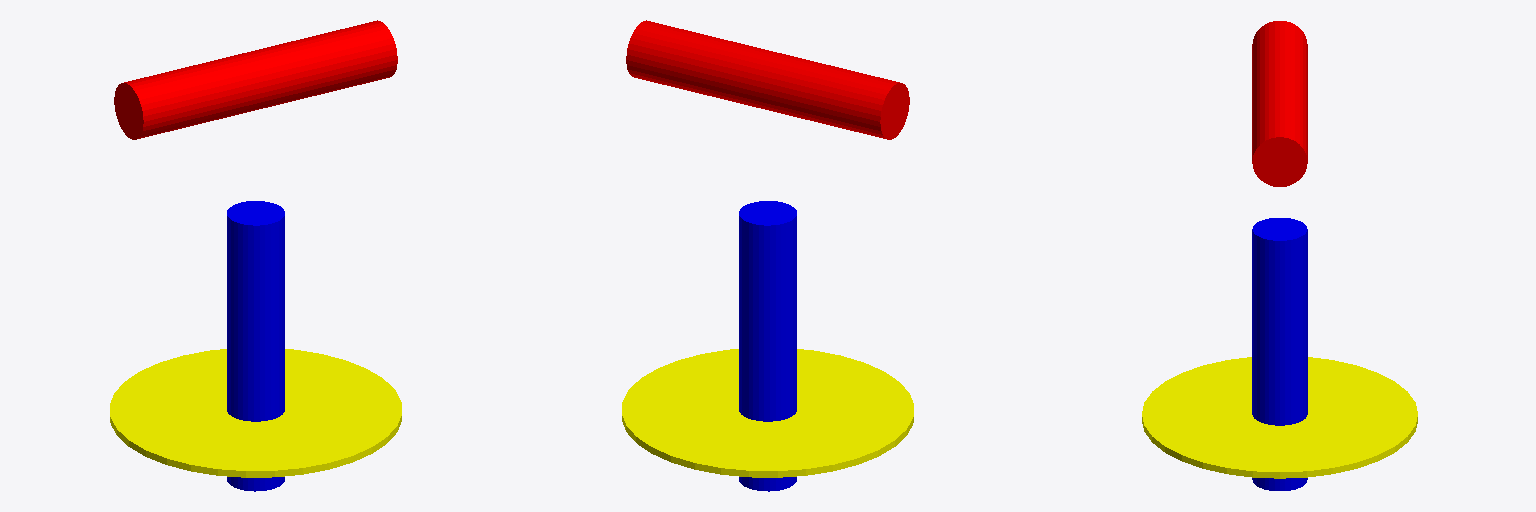
The robot description file, URDF, robot "pan_tilt":
<?xml version="1.0" ?>
<!-- =================================================================================== -->
<!-- |    This document was autogenerated by xacro from windows.xacro                  | -->
<!-- |    EDITING THIS FILE BY HAND IS NOT RECOMMENDED                                 | -->
<!-- =================================================================================== -->
<robot name="pan_tilt" xmlns:controller="http://playerstage.sourceforge.net/gazebo/xmlschema/#controller" xmlns:interface="http://playerstage.sourceforge.net/gazebo/xmlschema/#interface" xmlns:sensor="http://playerstage.sourceforge.net/gazebo/xmlschema/#sensor" xmlns:xacro="http://www.ros.org/wiki/xacro">
  <link name="base_link">
    <visual>
      <geometry>
        <cylinder length="0.01" radius="0.2"/>
      </geometry>
      <origin rpy="0 0 0" xyz="0 0 0"/>
      <material name="yellow">
        <color rgba="1 1 0 1"/>
      </material>
    </visual>
    <collision>
      <geometry>
        <cylinder length="0.03" radius="0.2"/>
      </geometry>
      <origin rpy="0 0 0" xyz="0 0 0"/>
    </collision>
    <inertial>
      <mass value="1"/>
      <inertia ixx="0.5" ixy="0.0" ixz="0.0" iyy="0.5" iyz="0.0" izz="0.5"/>
    </inertial>
  </link>
  <joint name="pan_joint" type="revolute">
    <parent link="base_link"/>
    <child link="pan_link"/>
    <origin xyz="0 0 0.1"/>
    <axis xyz="0 0 1"/>
    <limit effort="300" lower="-3.14" upper="3.14" velocity="0.1"/>
    <dynamics damping="50" friction="1"/>
  </joint>
  <link name="pan_link">
    <visual>
      <geometry>
        <cylinder length="0.4" radius="0.04"/>
      </geometry>
      <origin rpy="0 0 0" xyz="0 0 0.0"/>
      <material name="red">
        <color rgba="0 0 1 1"/>
      </material>
    </visual>
    <collision>
      <geometry>
        <cylinder length="0.4" radius="0.06"/>
      </geometry>
      <origin rpy="0 0 0" xyz="0 0 0.0"/>
    </collision>
    <inertial>
      <mass value="1"/>
      <inertia ixx="0.5" ixy="0.0" ixz="0.0" iyy="0.5" iyz="0.0" izz="0.5"/>
    </inertial>
  </link>
  <joint name="tilt_joint" type="revolute">
    <parent link="pan_link"/>
    <child link="tilt_link"/>
    <origin xyz="0 0 0.4"/>
    <axis xyz="0 1 0"/>
    <limit effort="300" lower="0" upper="0" velocity="0.1"/>
    <dynamics damping="50" friction="1"/>
  </joint>
  <link name="tilt_link">
    <visual>
      <geometry>
        <cylinder length="0.4" radius="0.04"/>
      </geometry>
      <origin rpy="0 1.57 0" xyz="0 0 0"/>
      <material name="green">
        <color rgba="1 0 0 1"/>
      </material>
    </visual>
    <collision>
      <geometry>
        <cylinder length="0.4" radius="0.24"/>
      </geometry>
      <origin rpy="0 1.57 0" xyz="0 0 0"/>
    </collision>
    <inertial>
      <mass value="1"/>
      <inertia ixx="0.5" ixy="0.0" ixz="0.0" iyy="0.5" iyz="0.0" izz="0.5"/>
    </inertial>
  </link>
</robot>

--- Render facts (derived) ---
Views: 3 orthographic renders of the robot side by side, from view 1: azimuth 30°, elevation 25°; view 2: azimuth 150°, elevation 25°; view 3: azimuth 270°, elevation 25°.
Model pan_tilt with 3 links and 2 joints (2 revolute), rooted at base_link, posed all joints at 0.
Links seen in each view (by area): view 1: base_link, tilt_link, pan_link; view 2: base_link, tilt_link, pan_link; view 3: base_link, pan_link, tilt_link.
Link boxes in pixels (x1,y1,x2,y2): base_link: [110, 349, 401, 477]; tilt_link: [114, 20, 397, 139]; pan_link: [227, 201, 284, 491]; base_link: [622, 349, 913, 477]; tilt_link: [626, 20, 909, 139]; pan_link: [739, 201, 796, 491]; base_link: [1142, 357, 1417, 478]; pan_link: [1252, 218, 1307, 490]; tilt_link: [1252, 21, 1307, 186].
Bounding box of the posed robot: 0.4001 × 0.4 × 0.6402 m (x, y, z).
Geometry: primitives only (box / cylinder / sphere), no mesh files.
